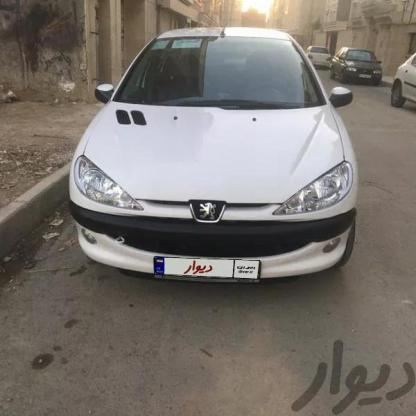Car: (66, 26, 362, 286), (330, 41, 384, 84), (388, 51, 416, 126), (307, 40, 331, 70)
